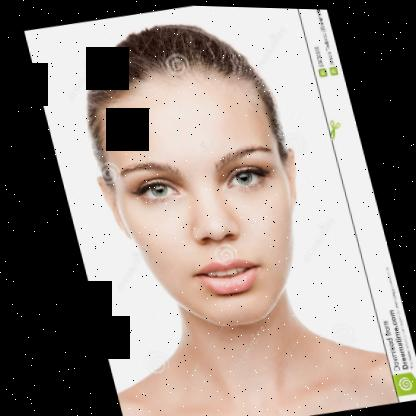Female: (69, 56, 331, 344)
